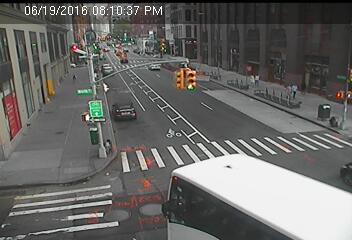neg: (215, 57, 227, 73), (204, 74, 214, 88), (228, 56, 238, 68), (262, 87, 271, 99), (272, 83, 280, 93)
pos: (290, 83, 304, 102), (282, 83, 295, 100), (253, 73, 264, 88)
